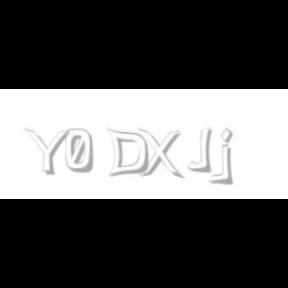0: (66, 128, 96, 174)
D: (106, 128, 148, 178)
J: (186, 128, 212, 172)
X: (138, 128, 182, 180)
Y: (24, 128, 70, 176)
j: (218, 128, 248, 186)
